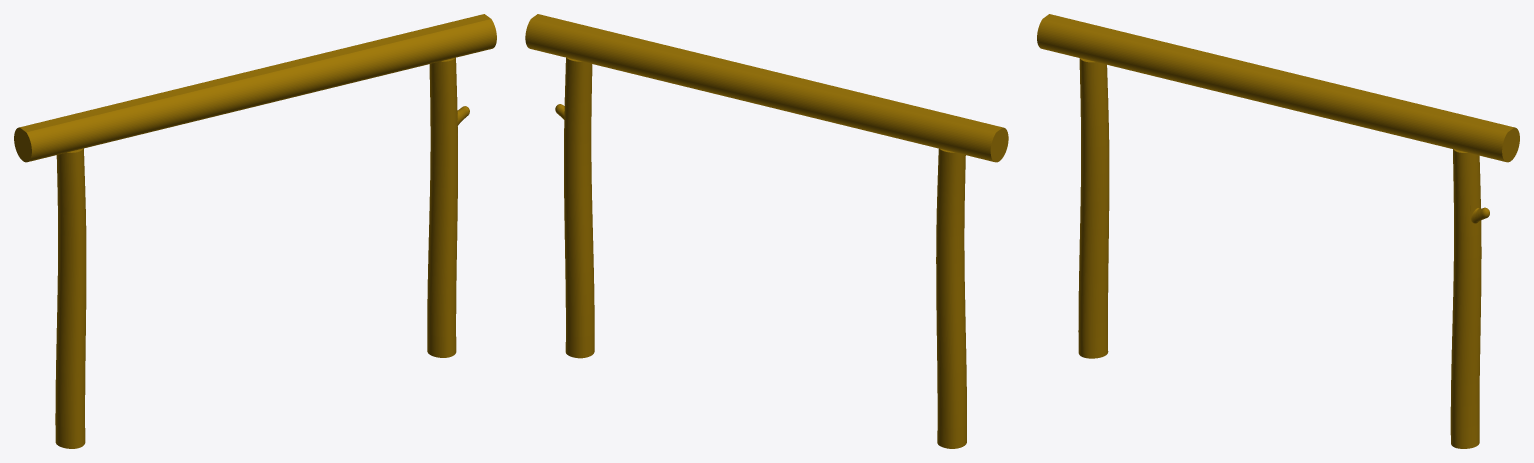
Rendered from 4_decorative.glb.
3 views of the same model, side by side, from view 1: azimuth 30°, elevation 25°; view 2: azimuth 150°, elevation 25°; view 3: azimuth 330°, elevation 25° (orthographic).
Visible parts, largest first — view 1: skpDE86; view 2: skpDE86; view 3: skpDE86.
Boxes of the visible parts, left/top/right/bottom form: skpDE86: left=14, top=14, right=496, bottom=448; skpDE86: left=525, top=14, right=1008, bottom=448; skpDE86: left=1037, top=14, right=1519, bottom=448.
Size of the model in its own units: 4.58 by 3.05 by 0.3047.
